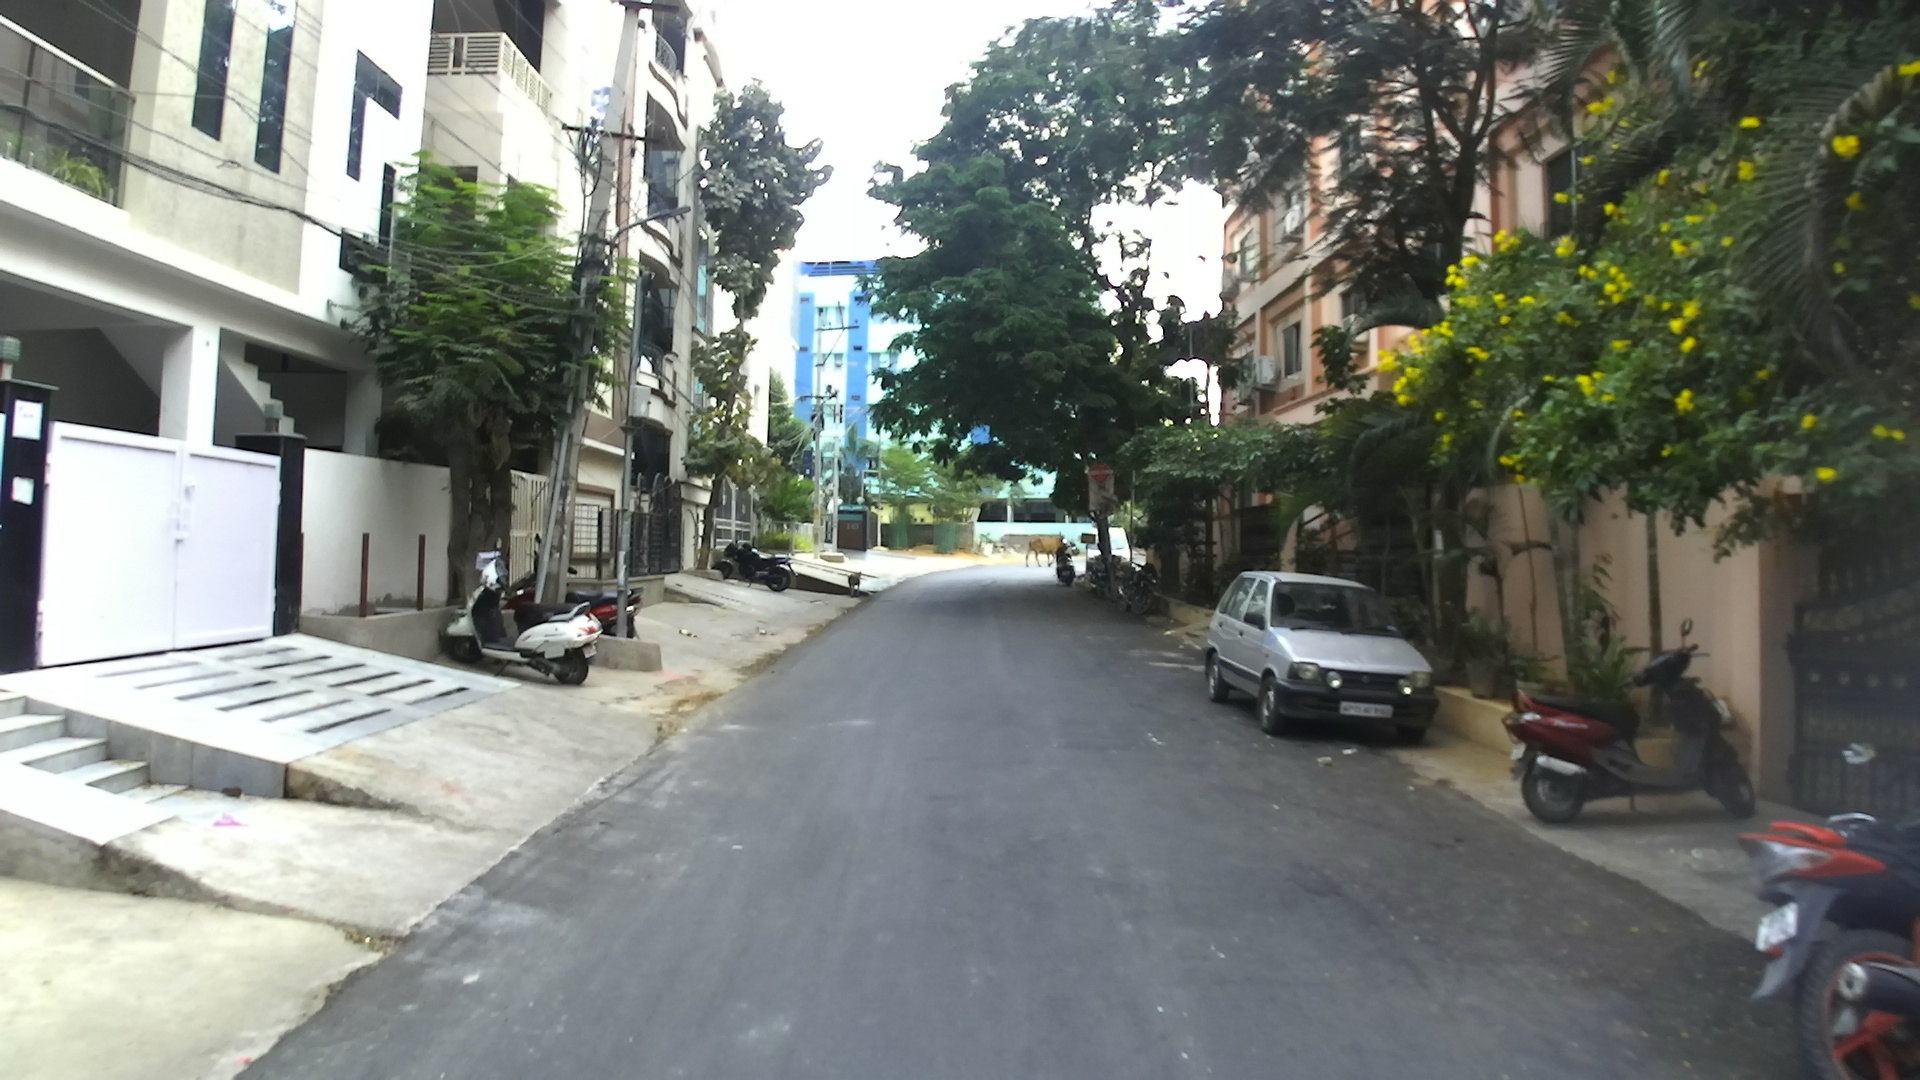vehicle: (1735, 796, 1919, 1077), (1506, 636, 1756, 825), (1203, 564, 1439, 744)
